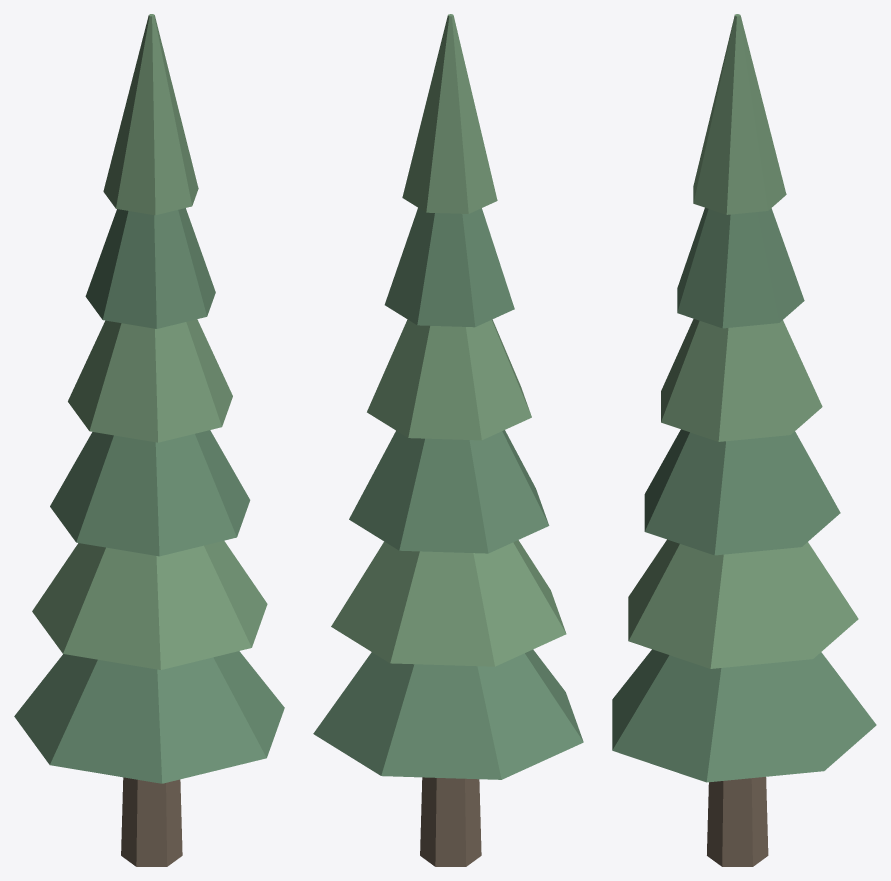
File: pine_v17.glb
3 renders of one model, left to right at view 1: azimuth 30°, elevation 25°; view 2: azimuth 150°, elevation 25°; view 3: azimuth 270°, elevation 25°, orthographic.
Parts seen in each view (by area): view 1: lod0; view 2: lod0; view 3: lod0.
Part boxes in pixels (x1,y1,x2,y2): lod0: [14, 14, 284, 866]; lod0: [313, 14, 583, 866]; lod0: [612, 14, 876, 866].
Size of what is drawn, in the model's own units: 1.76 by 6.03 by 1.72.
